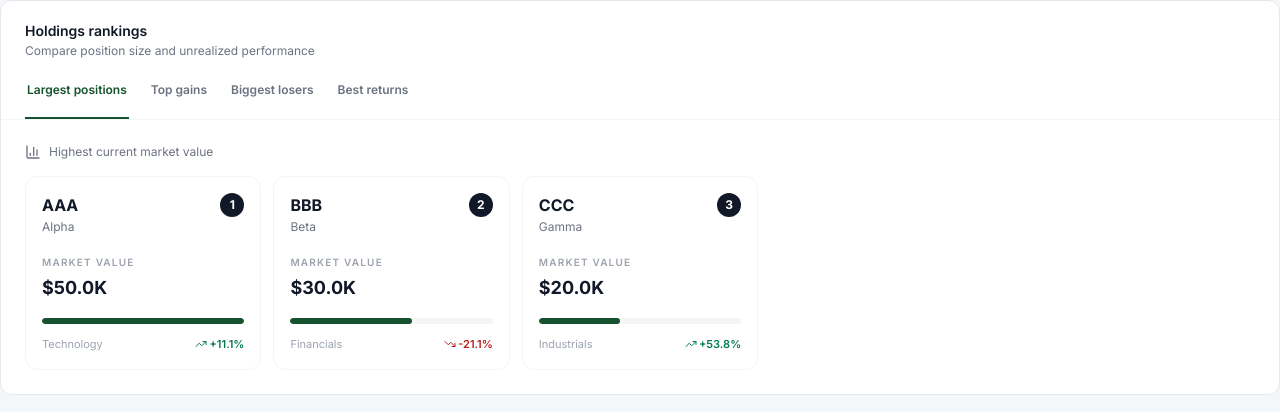
Test: TopHoldings ranking tabs › switches between market value, gains, losses, and percentage return rankings
Check: the text "AAA" is shown, box x1=42 y1=193 x2=78 y2=217
Click the tab "Top gains".
click(179, 97)  # box x1=149 y1=75 x2=209 y2=119
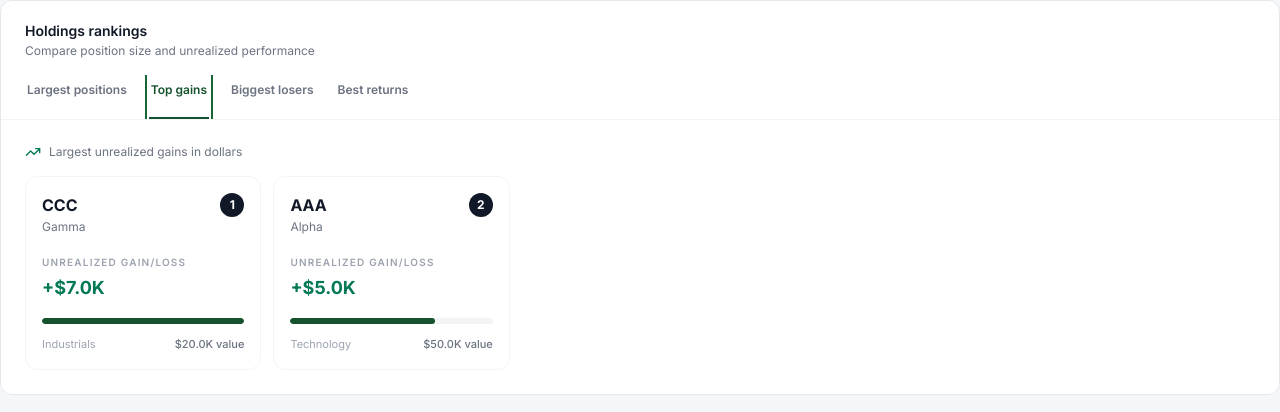
Check: the text "+$7.0K" is shown, box x1=42 y1=277 x2=105 y2=298
Check: the text "BBB" is gone
Click the tab "Biggest losers".
click(272, 97)  # box x1=229 y1=75 x2=316 y2=119
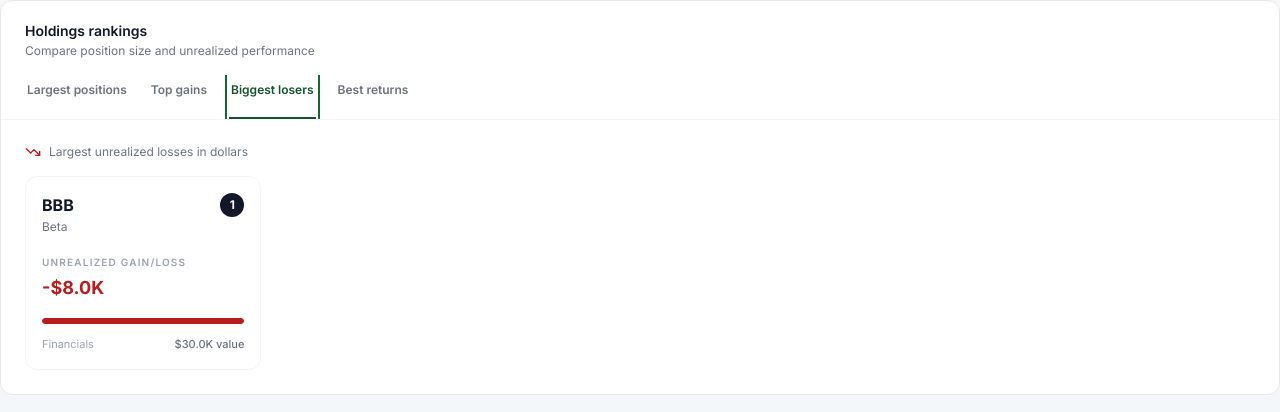
Check: the text "-$8.0K" is shown, box x1=42 y1=277 x2=104 y2=298
Check: the text "BBB" is shown, box x1=42 y1=193 x2=74 y2=217
Click the tab "Best returns".
click(373, 97)  # box x1=336 y1=75 x2=410 y2=119
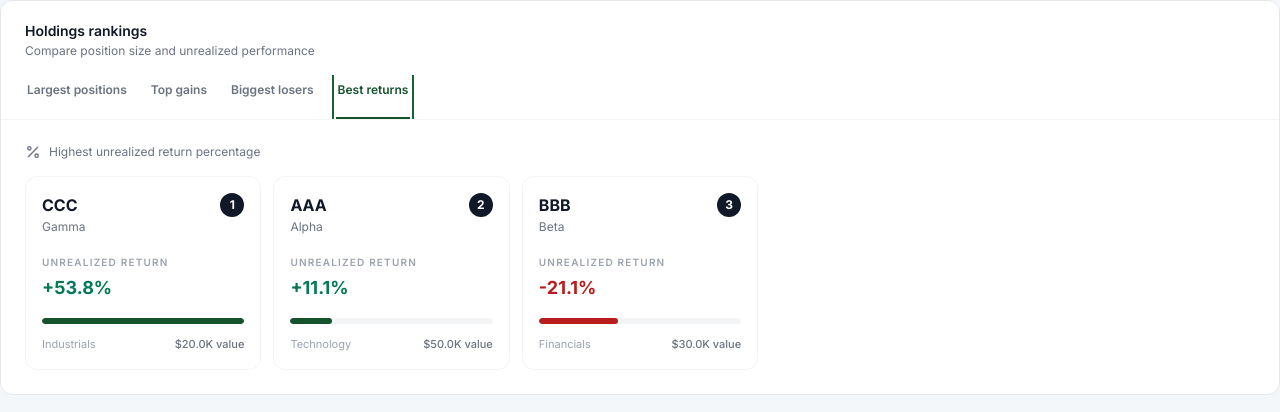
Check: the text "+53.8%" is shown, box x1=42 y1=277 x2=112 y2=298
